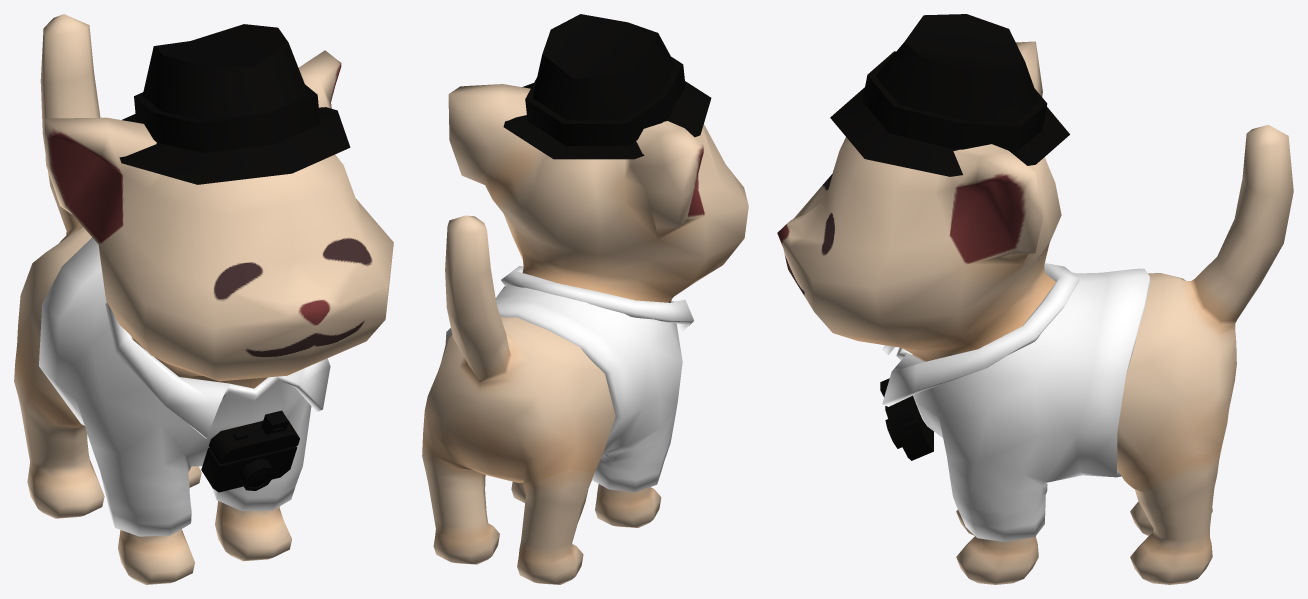
The model's file is Journalist Cat01.fbx.
The picture shows the model from 3 angles, left to right: view 1: azimuth 30°, elevation 25°; view 2: azimuth 150°, elevation 25°; view 3: azimuth 270°, elevation 25°; orthographic projection. The views are drawn at different scales.
Parts seen in each view (by area): view 1: Cat_Base, Journalist_Cat_Shirt, Journalist_Cat_Hat, Journalist_Cat_Camera; view 2: Cat_Base, Journalist_Cat_Hat, Journalist_Cat_Shirt; view 3: Cat_Base, Journalist_Cat_Shirt, Journalist_Cat_Hat, Journalist_Cat_Camera.
Part boxes in pixels (left/top/right/bottom): Cat_Base: left=14, top=14, right=393, bottom=584; Journalist_Cat_Shirt: left=39, top=237, right=330, bottom=536; Journalist_Cat_Hat: left=119, top=24, right=350, bottom=184; Journalist_Cat_Camera: left=201, top=410, right=299, bottom=492; Cat_Base: left=422, top=84, right=748, bottom=584; Journalist_Cat_Hat: left=503, top=14, right=711, bottom=159; Journalist_Cat_Shirt: left=445, top=266, right=693, bottom=492; Cat_Base: left=777, top=41, right=1293, bottom=584; Journalist_Cat_Shirt: left=882, top=263, right=1150, bottom=541; Journalist_Cat_Hat: left=830, top=14, right=1069, bottom=176; Journalist_Cat_Camera: left=880, top=378, right=933, bottom=460.
Size of the model in its own units: 1.75 by 2.83 by 3.11.
Materials: 3 (1 with a texture image).
